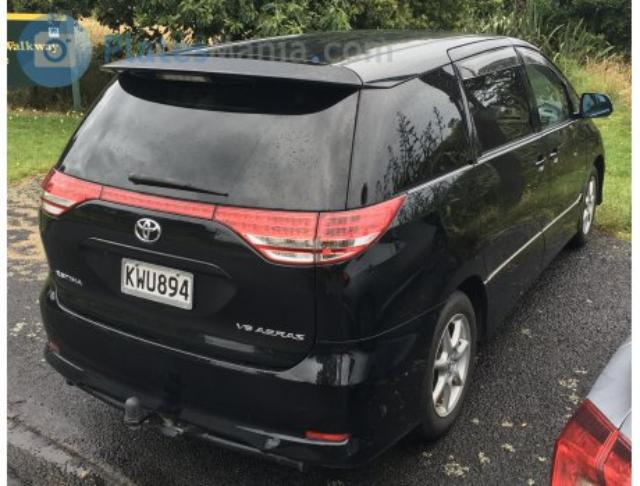Rego: (120, 258, 195, 313)
